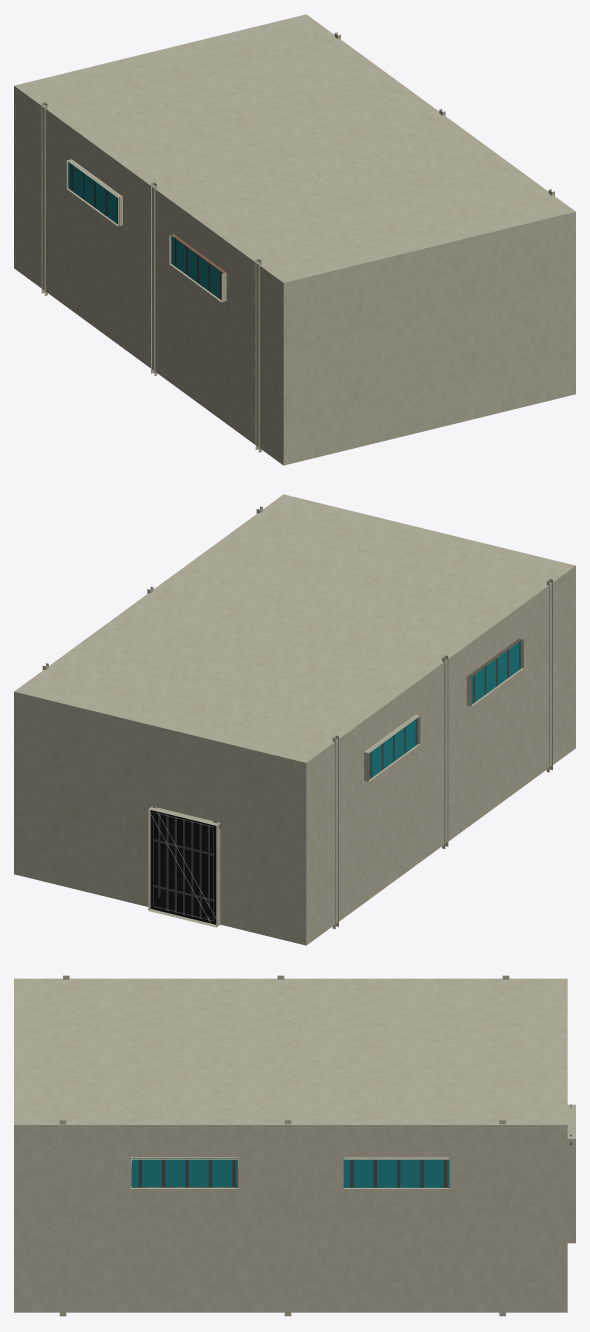
The model's file is sklad-inside.glb.
3 views of the same model, one above another, from view 1: azimuth 30°, elevation 25°; view 2: azimuth 150°, elevation 25°; view 3: azimuth 270°, elevation 25° (orthographic). The views are drawn at different scales.
Visible parts, largest first — view 1: walls, windows; view 2: walls, door, windows; view 3: walls, windows.
Part boxes in pixels (box(x1,y1,x2,y2)): walls: box(14, 14, 575, 465); windows: box(68, 162, 222, 300); walls: box(14, 494, 575, 945); door: box(150, 806, 220, 924); windows: box(367, 640, 521, 781); walls: box(14, 975, 575, 1316); windows: box(132, 1158, 449, 1188).
Size of what is drawn, in the model's own units: 1.3 by 0.7804 by 2.03.
3 materials, 3 textured.
